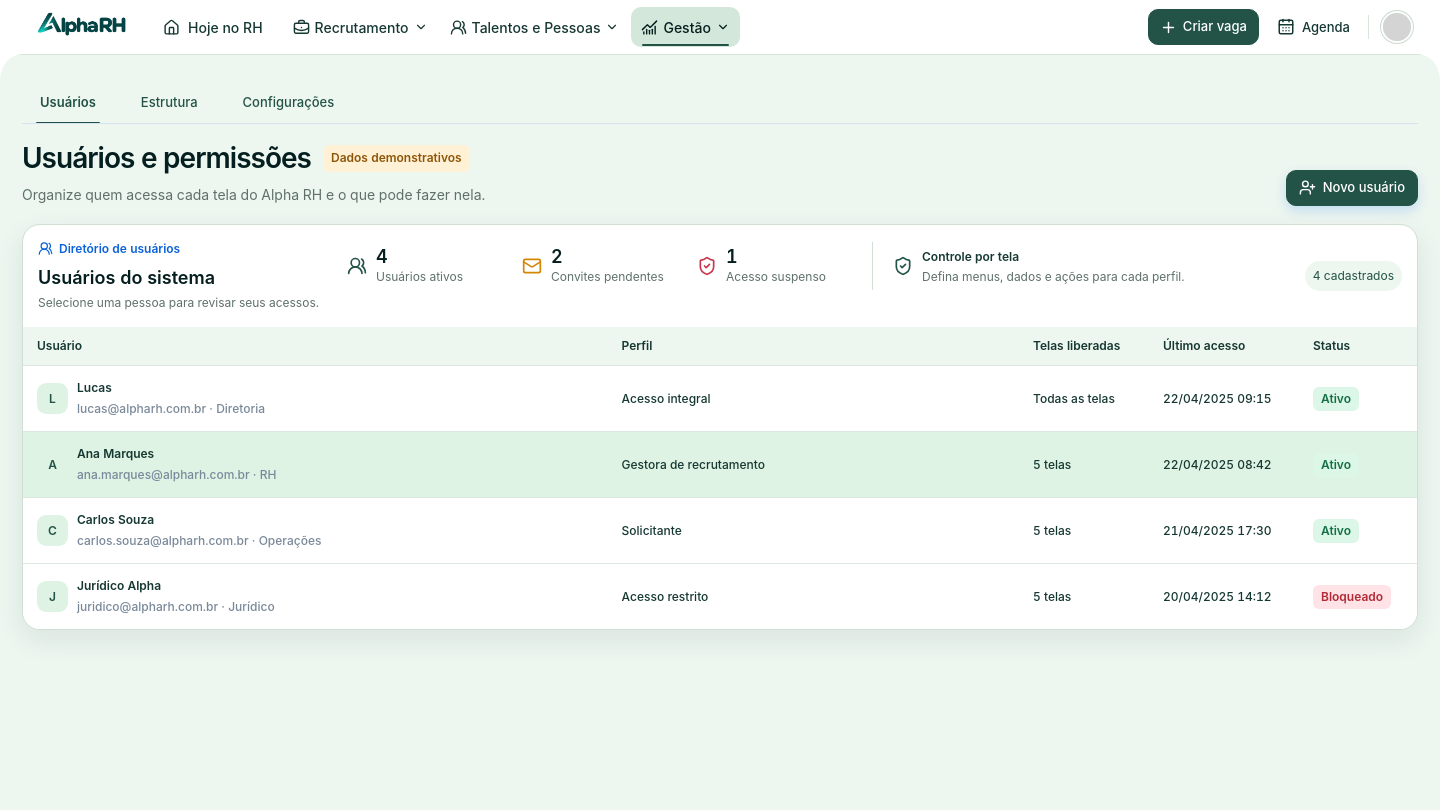
Test: Alpha RH connected screens › lets an administrator prepare a demonstrative user invitation with screen access
Click the button "Novo usuário" at x=1352, y=188, box [1286,170,1418,206]
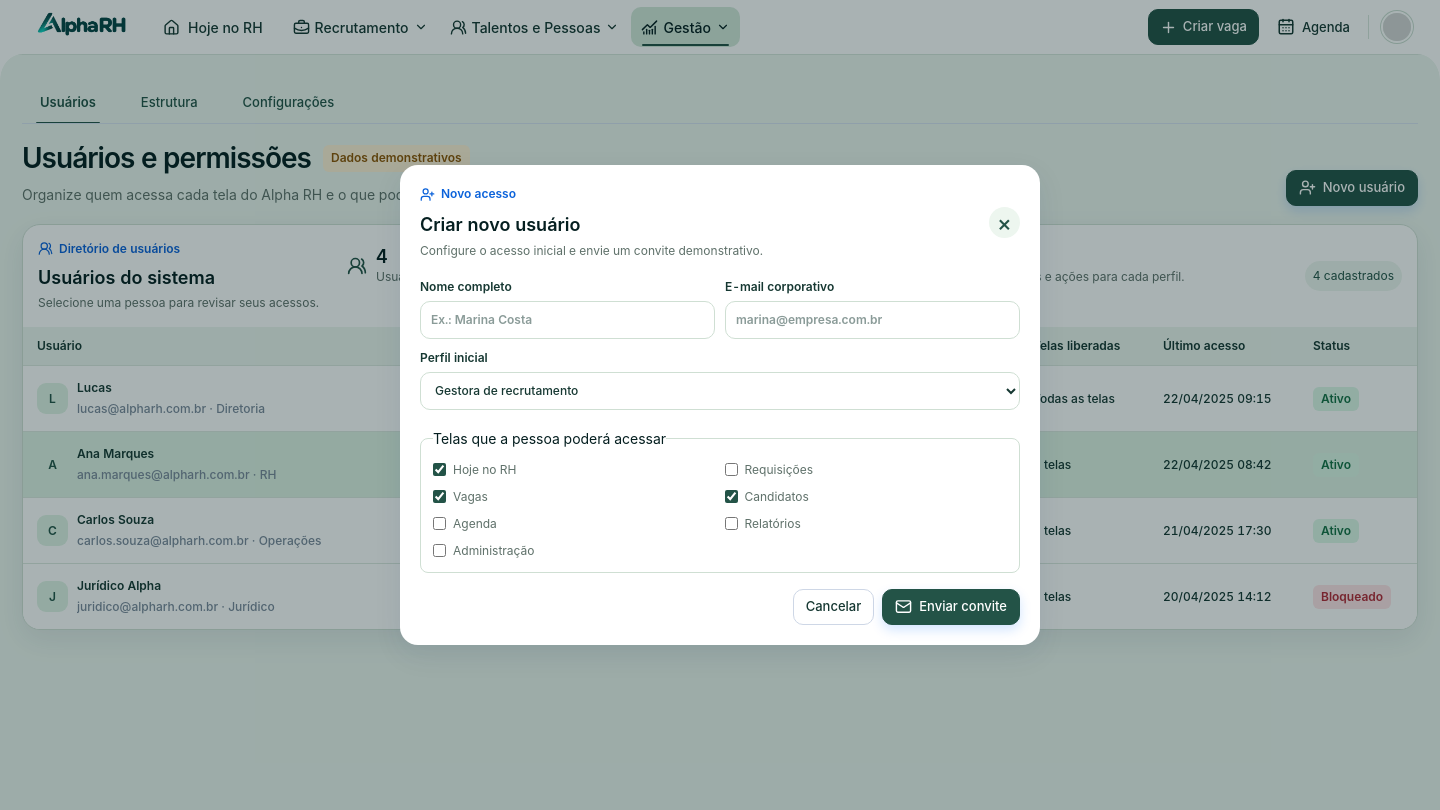
Click the checkbox labelled "Relatórios" at x=731, y=524, box [724,517,738,530]
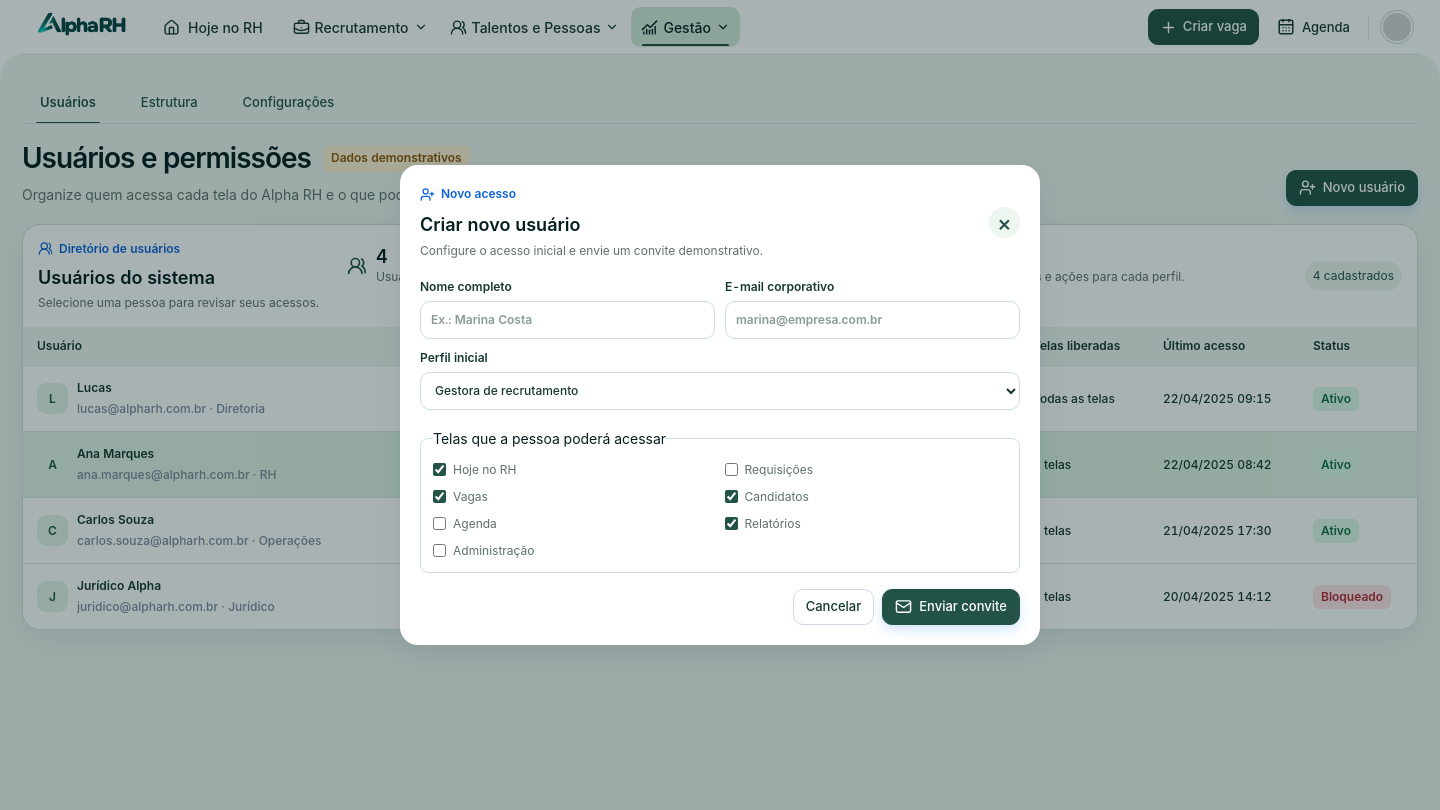
Click the button "Enviar convite" at x=951, y=607, box [882,589,1020,625]
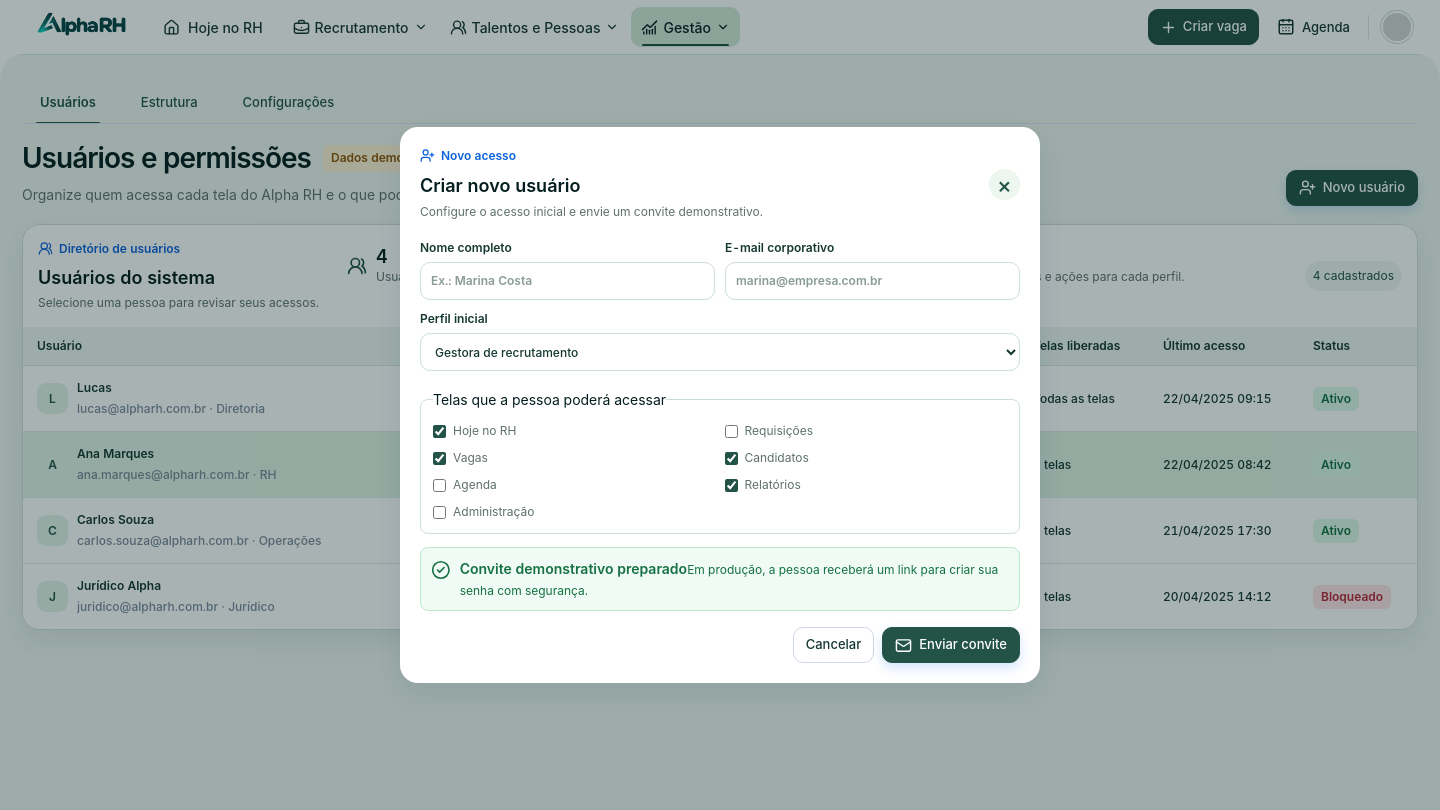
Expected: the text "Convite demonstrativo preparado" is shown, [460,560,687,577]
